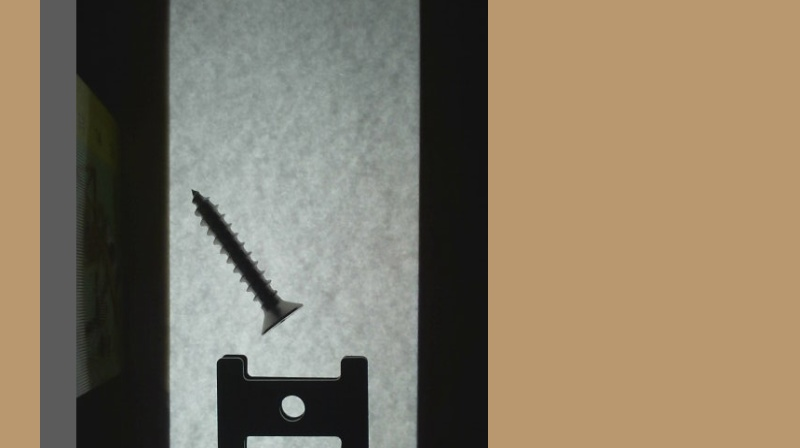O002: (212, 349, 371, 447)
S001: (184, 183, 304, 338)
